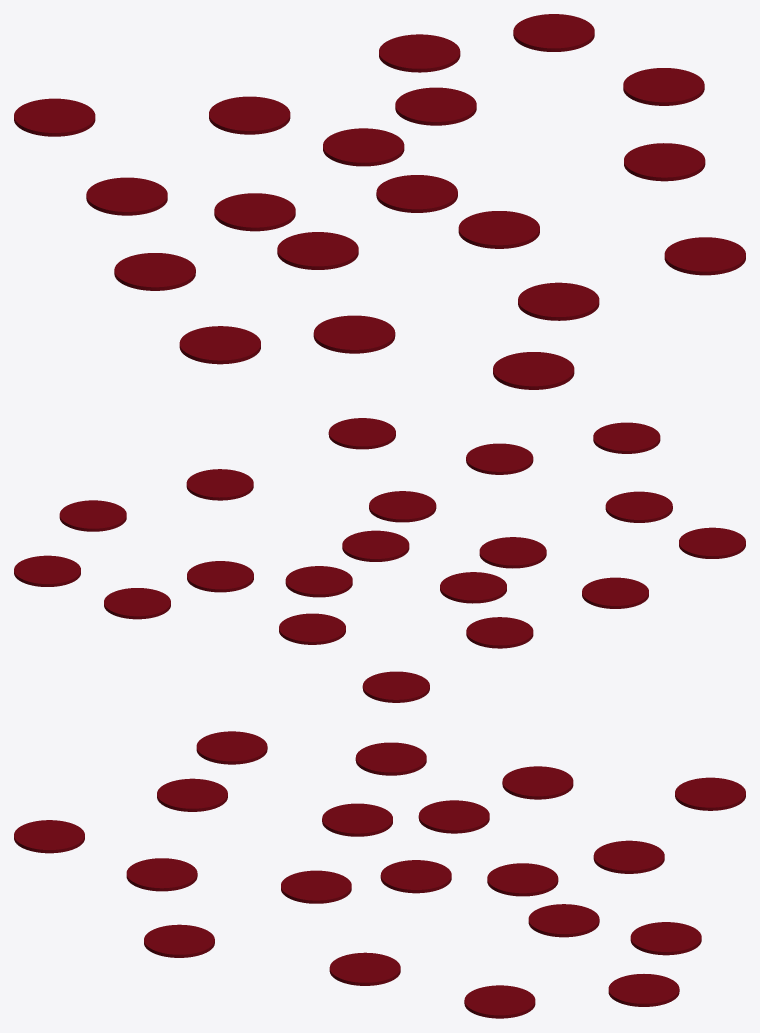
File: sausage.fbx
The picture shows the model from 3 angles, top to bottom: view 1: azimuth 30°, elevation 25°; view 2: azimuth 150°, elevation 25°; view 3: azimuth 270°, elevation 25°; orthographic projection. The views are drawn at different scales.
Parts seen in each view (by area): view 1: Sausage; view 2: Sausage; view 3: Sausage.
Part boxes in pixels (<box>): Sausage: <box>14,14,745,389</box>; Sausage: <box>14,418,745,702</box>; Sausage: <box>14,731,745,1018</box>.
Size of the model in its own units: 163 by 0.8629 by 178.
